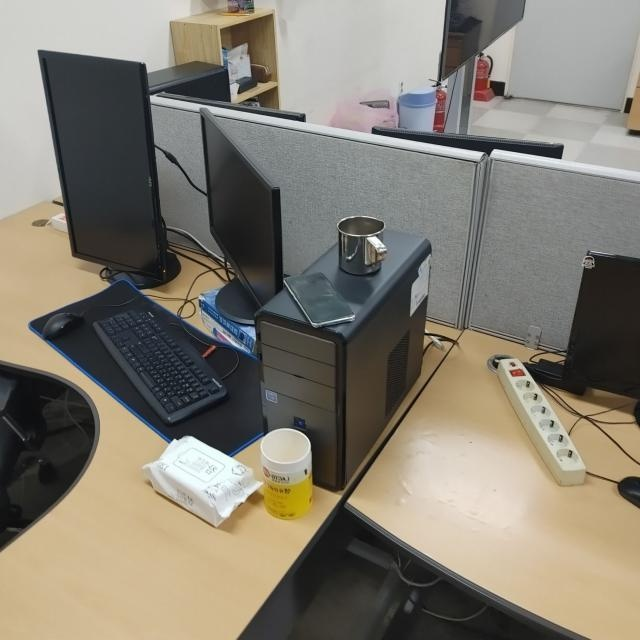cup: (337, 214, 388, 276)
phone: (284, 270, 355, 327)
